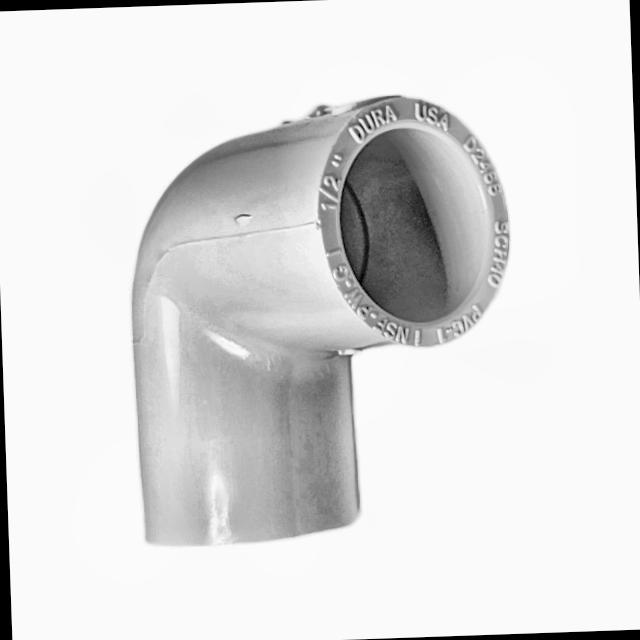ELBOW90: (128, 92, 513, 549)
